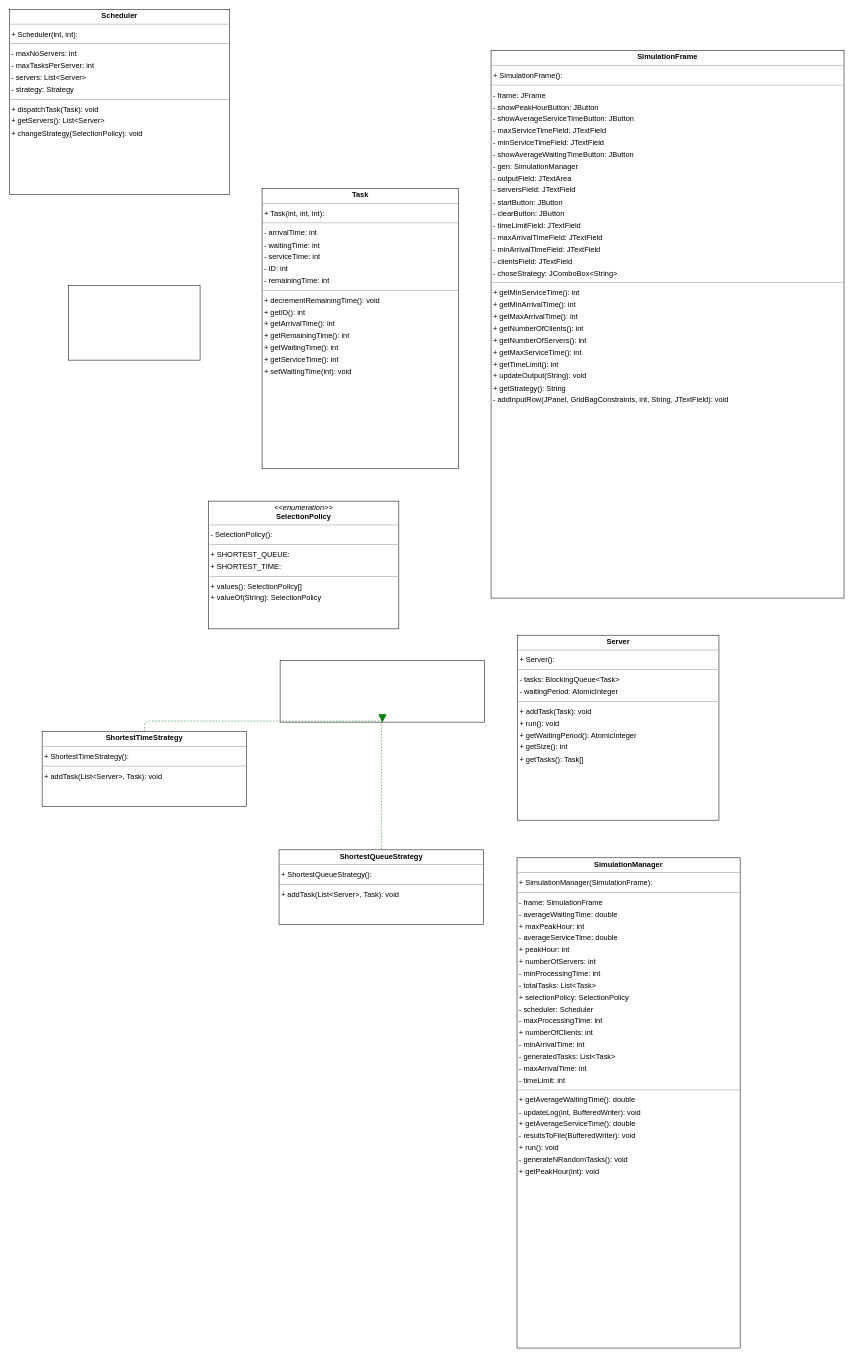
Image size: 853x1357. Some labels were removed from this diagram. The box of each missing label's shape, as (x1, y1, x2, y2) in pixels:
<<interface>> Strategy + addTask(List<Server>, Task): void: (280, 660, 485, 722)
Main + Main(): + main(String[]): void: (68, 285, 200, 360)
